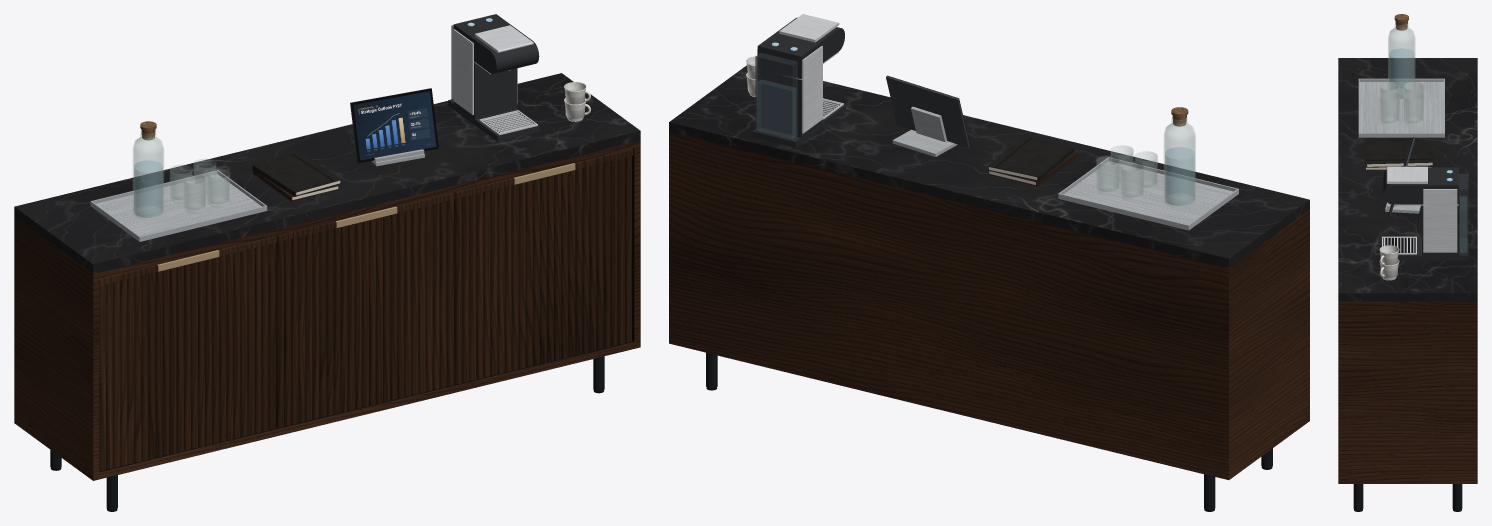
Rendered from Office_Boardroom_Credenza.glb.
The picture shows the model from 3 angles, left to right: view 1: azimuth 30°, elevation 25°; view 2: azimuth 150°, elevation 25°; view 3: azimuth 270°, elevation 25°; orthographic projection. The views are drawn at different scales.
Visible parts, largest first — view 1: Door_Right_Flutes, Door_Centre_Flutes, Door_Left_Flutes, Countertop_Marble_NeroMarquina, Carcass_Side_Left, Tray_Base, Tablet_Screen, Carcass_Bottom, Carcass_Top, Housing_Tower, Carafe_Glass, Notebook_Upper_Cover_Front (+10 smaller); view 2: Carcass_Back, Countertop_Marble_NeroMarquina, Carcass_Side_Left, Tray_Base, Carcass_Bottom, Carcass_Top, Water_Tank, Tablet_Body, Carafe_Glass, Housing_Tower, Water_Tank_Water, Notebook_Upper_Cover_Front (+10 smaller); view 3: Carcass_Side_Right, Countertop_Marble_NeroMarquina, Tray_Base, Housing_SidePanel_R, Carafe_Glass, Notebook_Upper_Cover_Front, Housing_Tower, Carafe_Water, Water_Tank, Pod_Lever, Base_DripTray, Tumbler_2 (+16 smaller).
Boxes of the visible parts, x1=… form: Door_Right_Flutes: x1=454, y1=156, x2=631, y2=383; Door_Centre_Flutes: x1=276, y1=199, x2=453, y2=427; Door_Left_Flutes: x1=99, y1=243, x2=275, y2=470; Countertop_Marble_NeroMarquina: x1=14, y1=73, x2=640, y2=273; Carcass_Side_Left: x1=14, y1=216, x2=99, y2=480; Tray_Base: x1=90, y1=174, x2=267, y2=241; Tablet_Screen: x1=353, y1=91, x2=436, y2=160; Carcass_Bottom: x1=99, y1=342, x2=634, y2=479; Carcass_Top: x1=99, y1=142, x2=634, y2=278; Housing_Tower: x1=453, y1=14, x2=517, y2=119; Carafe_Glass: x1=133, y1=130, x2=163, y2=219; Notebook_Upper_Cover_Front: x1=252, y1=152, x2=341, y2=192; Carcass_Back: x1=675, y1=140, x2=1222, y2=471; Countertop_Marble_NeroMarquina: x1=669, y1=65, x2=1309, y2=268; Carcass_Side_Left: x1=1223, y1=209, x2=1309, y2=479; Tray_Base: x1=1058, y1=161, x2=1238, y2=230; Carcass_Bottom: x1=675, y1=338, x2=1222, y2=478; Carcass_Top: x1=675, y1=133, x2=1222, y2=273; Water_Tank: x1=755, y1=52, x2=797, y2=140; Tablet_Body: x1=886, y1=76, x2=969, y2=147; Carafe_Glass: x1=1164, y1=116, x2=1195, y2=208; Housing_Tower: x1=757, y1=30, x2=822, y2=137; Water_Tank_Water: x1=757, y1=80, x2=795, y2=138; Notebook_Upper_Cover_Front: x1=987, y1=136, x2=1073, y2=177; Carcass_Side_Right: x1=1338, y1=301, x2=1477, y2=483; Countertop_Marble_NeroMarquina: x1=1338, y1=58, x2=1477, y2=301; Tray_Base: x1=1358, y1=82, x2=1444, y2=137; Housing_SidePanel_R: x1=1423, y1=189, x2=1457, y2=252; Carafe_Glass: x1=1388, y1=22, x2=1415, y2=101; Notebook_Upper_Cover_Front: x1=1363, y1=142, x2=1433, y2=164; Housing_Tower: x1=1422, y1=167, x2=1458, y2=255; Carafe_Water: x1=1389, y1=48, x2=1414, y2=98; Water_Tank: x1=1459, y1=173, x2=1468, y2=254; Pod_Lever: x1=1388, y1=166, x2=1427, y2=183; Base_DripTray: x1=1381, y1=237, x2=1468, y2=260; Tumbler_2: x1=1404, y1=92, x2=1423, y2=126.
Bounding box in the file's own units: 1.8 × 1.11 × 0.45.
Materials: 24 (10 with a texture image).
